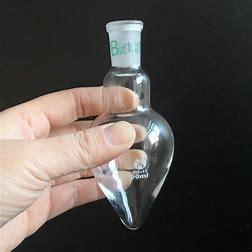Pear shaped flask: (70, 17, 181, 230)
